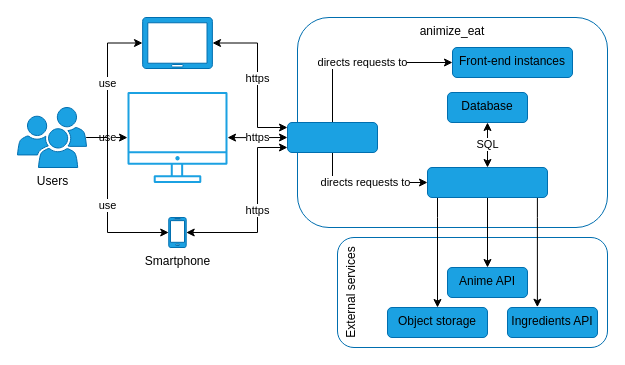
Some shapes in this 625 by 365 pixel diagram are drawn without their labels. Here are the shapes that lost their labels. From the top down, the centre of each, then its label:
the point at 177,42: Tablet
the point at 177,137: Desktop
the point at 332,137: Reverse proxy
the point at 487,182: Back-end instances
